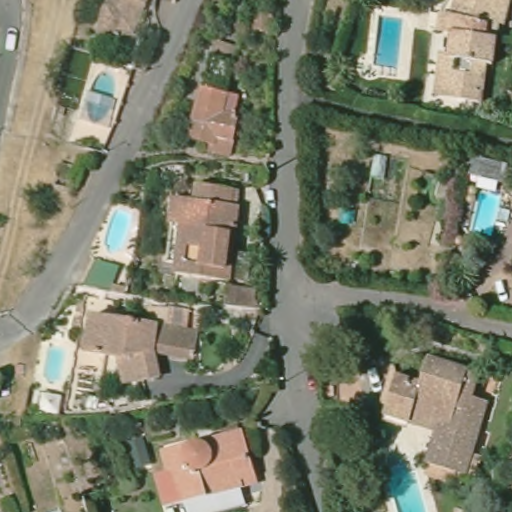pool: (372, 446, 435, 512), (363, 13, 408, 74), (83, 62, 121, 127), (100, 201, 142, 259), (468, 184, 505, 243), (38, 342, 68, 387)
